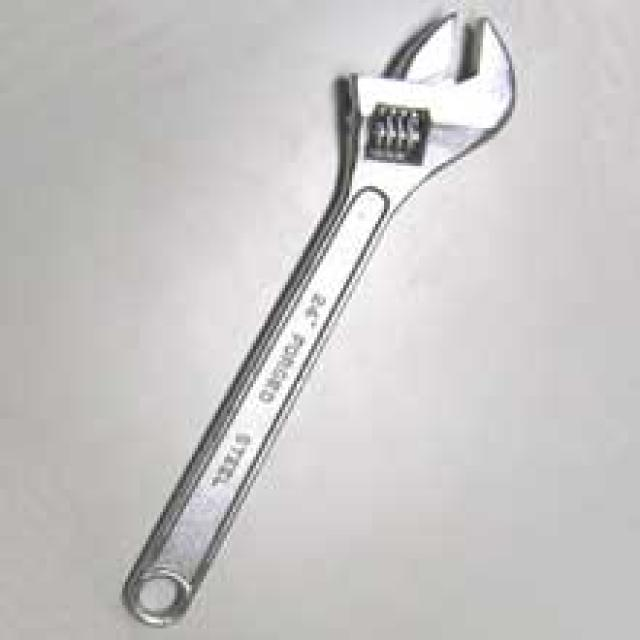wrench: (0, 0, 582, 618)
